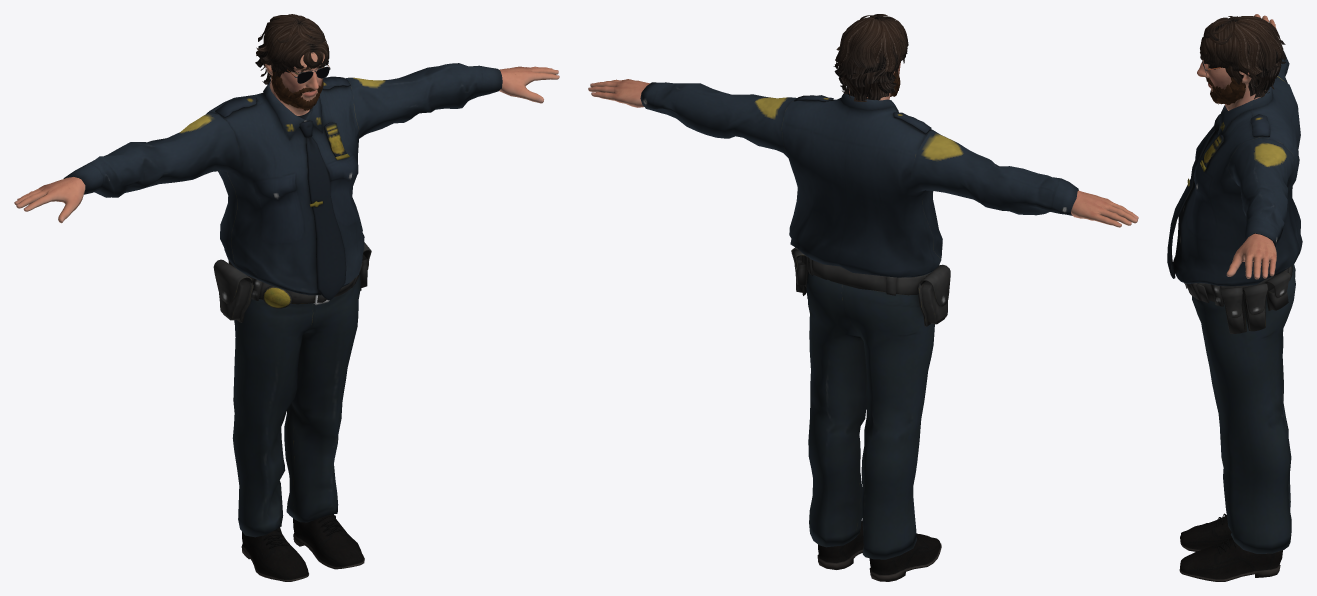
The picture shows the model from 3 angles, left to right: view 1: azimuth 30°, elevation 25°; view 2: azimuth 150°, elevation 25°; view 3: azimuth 270°, elevation 25°; orthographic projection.
Bounding box in the file's own units: 194 × 184 × 41.7.
Materials: 1 (1 with a texture image).
